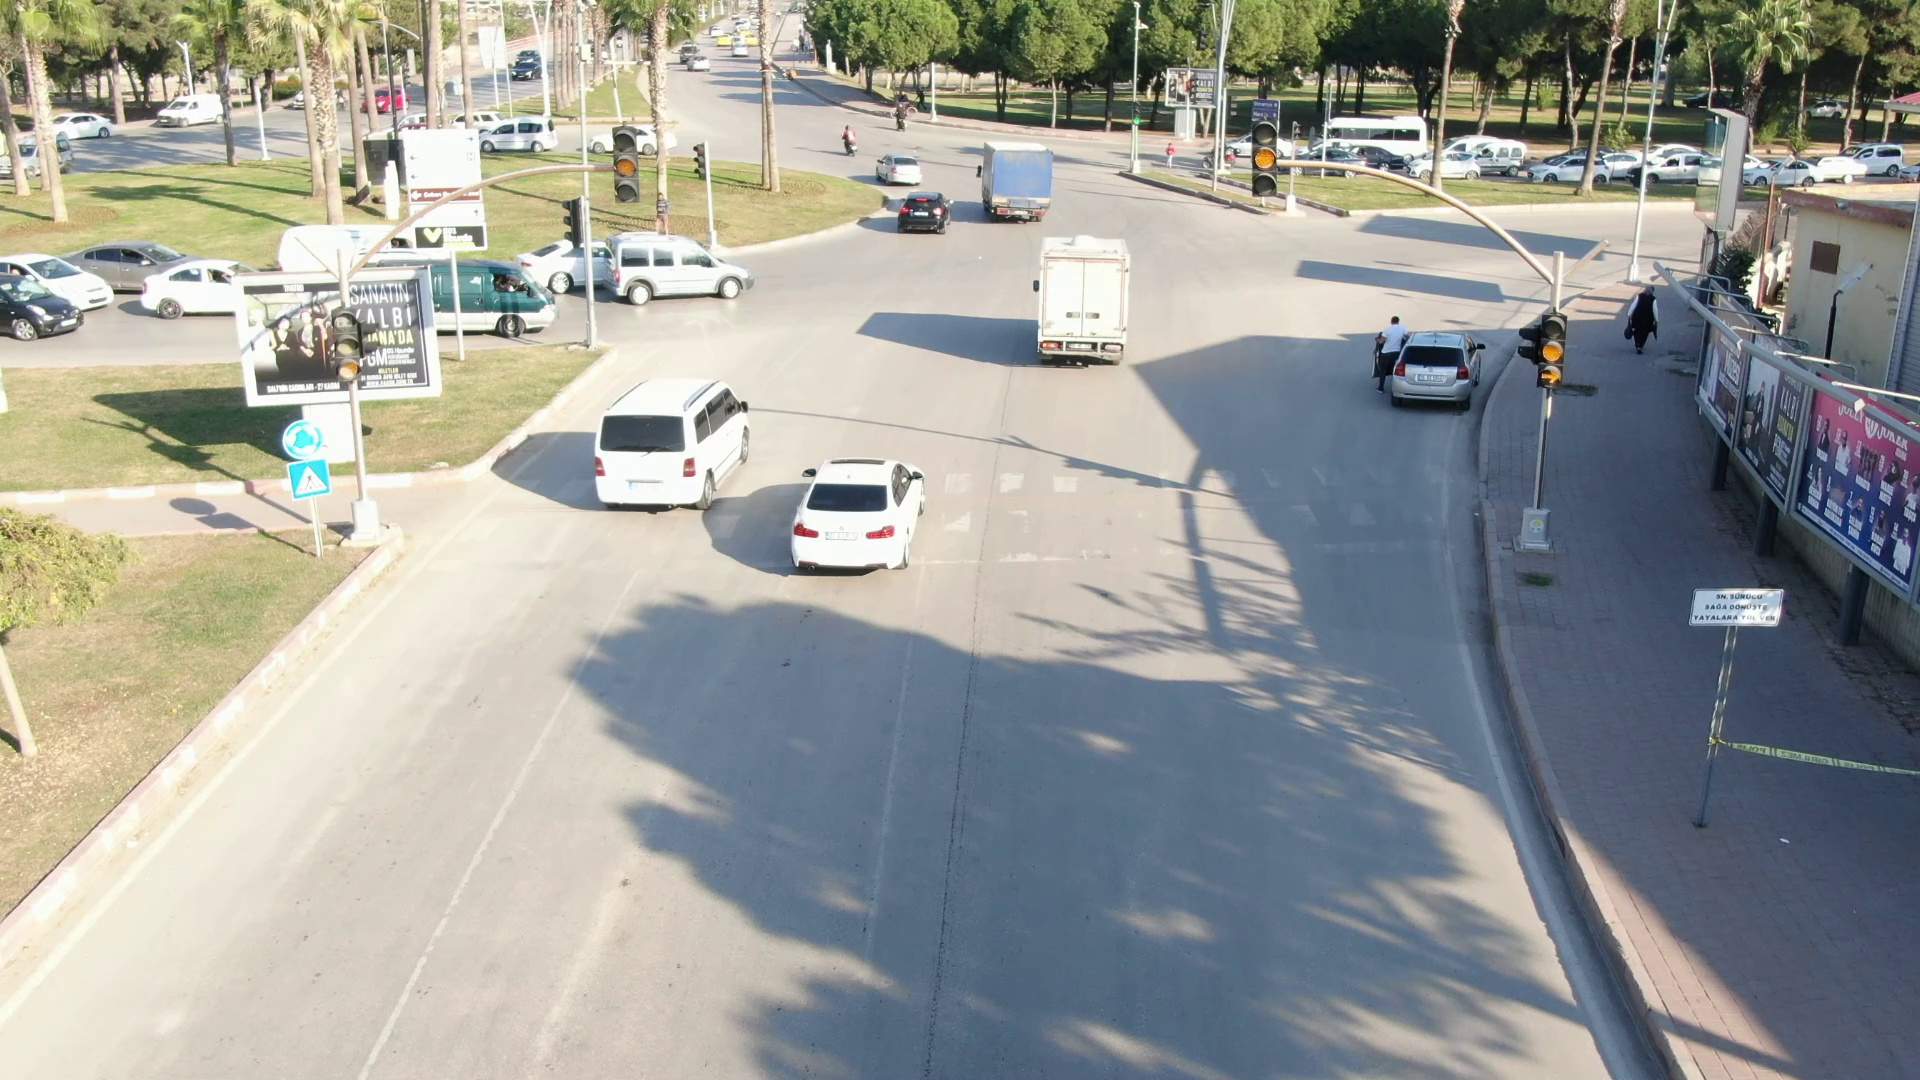car: (584, 358, 760, 526), (775, 439, 951, 586), (1018, 221, 1146, 375), (599, 223, 768, 322), (1388, 330, 1498, 422), (963, 129, 1062, 225), (886, 185, 966, 241), (858, 145, 932, 190)
person: (1612, 277, 1676, 373), (1367, 310, 1406, 404)
